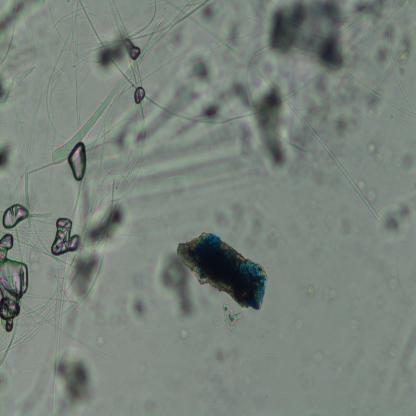Air bubble: (0, 234, 30, 331), (48, 218, 80, 252), (68, 142, 88, 182), (3, 203, 28, 228), (122, 39, 141, 58), (133, 85, 146, 102)
Background material: (278, 95, 380, 223), (121, 122, 240, 189), (158, 51, 249, 127), (267, 0, 348, 75), (210, 182, 279, 265), (73, 200, 128, 294), (310, 56, 384, 122), (246, 82, 295, 178), (0, 1, 39, 99), (221, 2, 267, 79), (196, 337, 238, 411), (349, 2, 392, 74), (156, 255, 196, 319), (58, 352, 99, 412), (388, 327, 416, 401), (14, 363, 51, 414), (126, 280, 153, 330), (91, 36, 126, 74), (214, 302, 246, 338), (0, 139, 17, 179), (293, 347, 324, 368), (382, 271, 404, 295), (174, 320, 191, 350), (198, 3, 220, 23), (381, 340, 396, 361), (305, 284, 318, 304), (327, 284, 338, 304), (294, 319, 306, 333), (98, 335, 107, 347)
Fragment: (176, 231, 267, 310)
Glass filter fibre: (53, 1, 194, 164), (23, 43, 94, 208), (48, 180, 84, 416), (384, 14, 416, 116), (378, 200, 414, 240), (23, 210, 52, 222)
